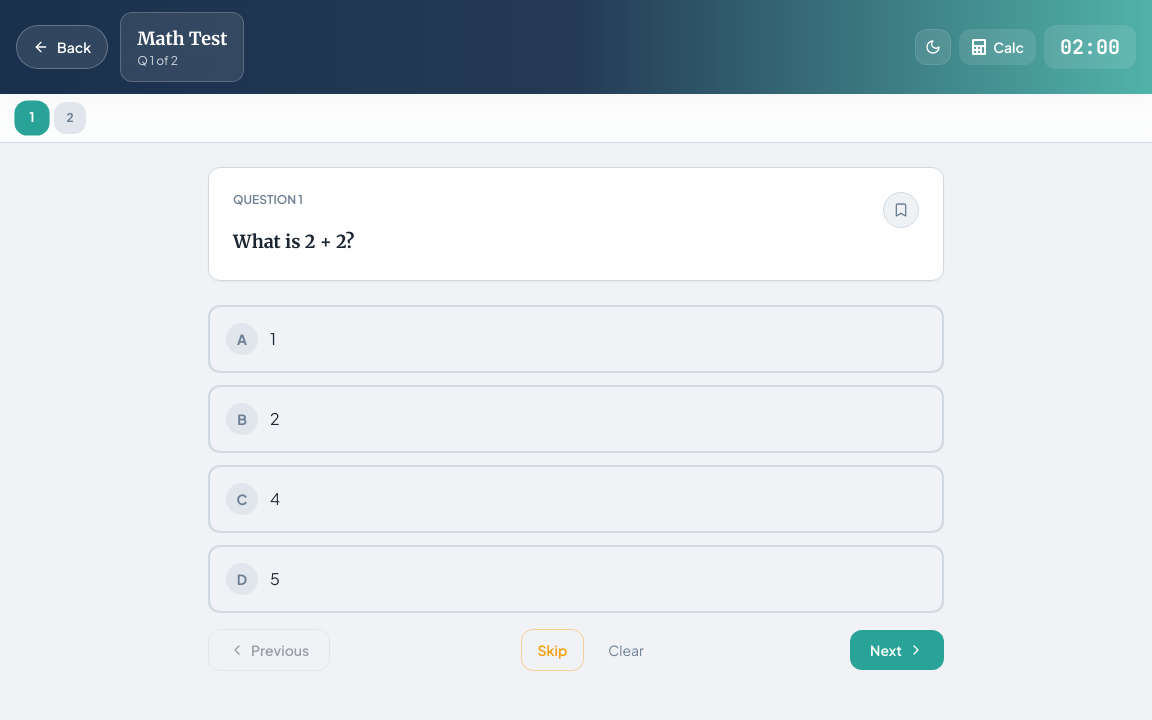
Test case: TestPage › moves to next question
Click the text "C".
click(242, 499)  # box [226,483,258,515]
(page scrolled)
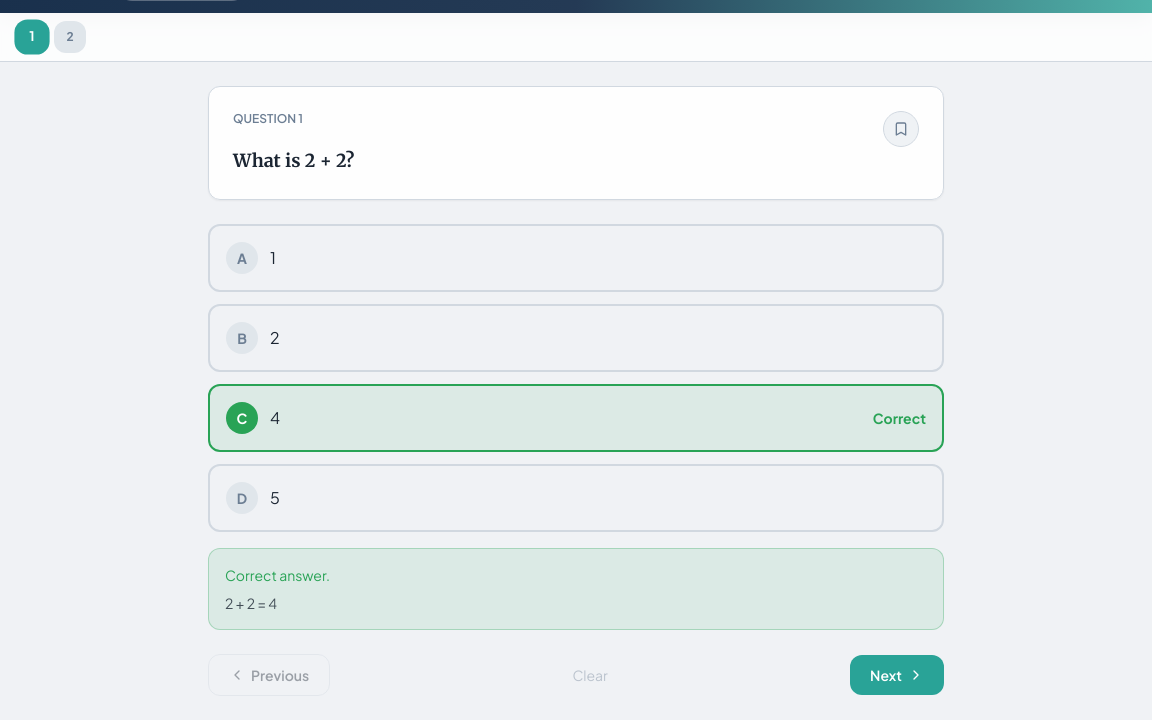
Click the button "Next".
click(897, 675)  # box [850,655,944,695]
(page scrolled)
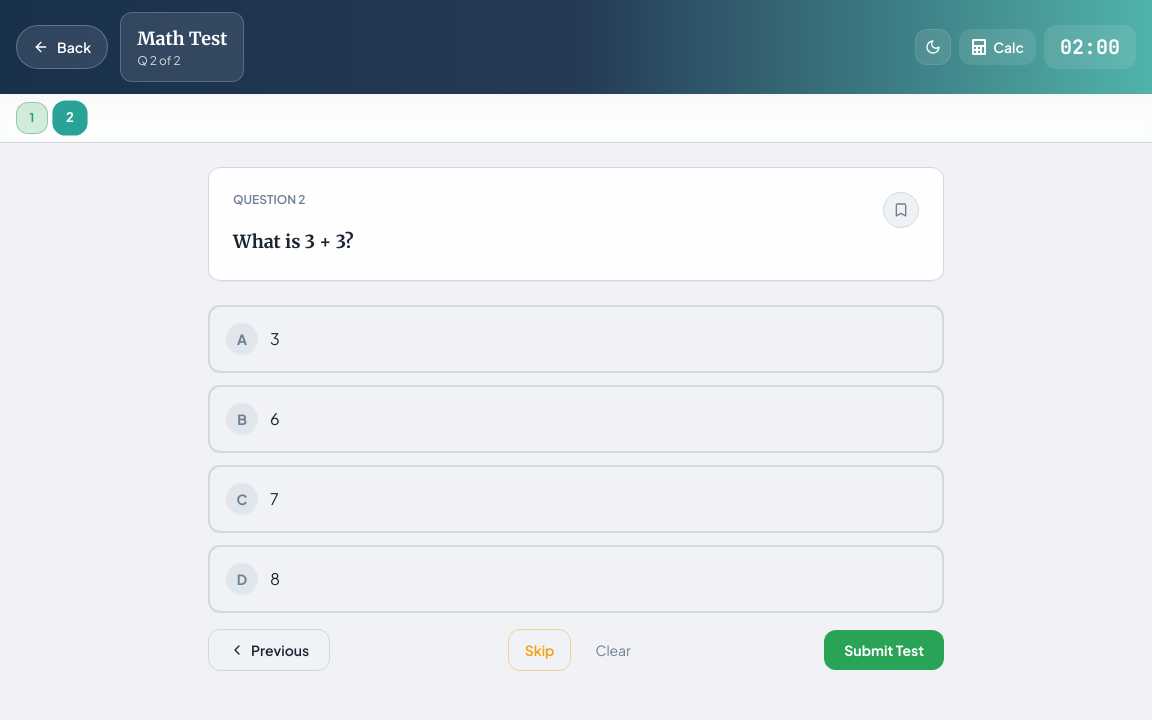
Now the text "What is 3 + 3?" is shown, box [233,230,354,253]
